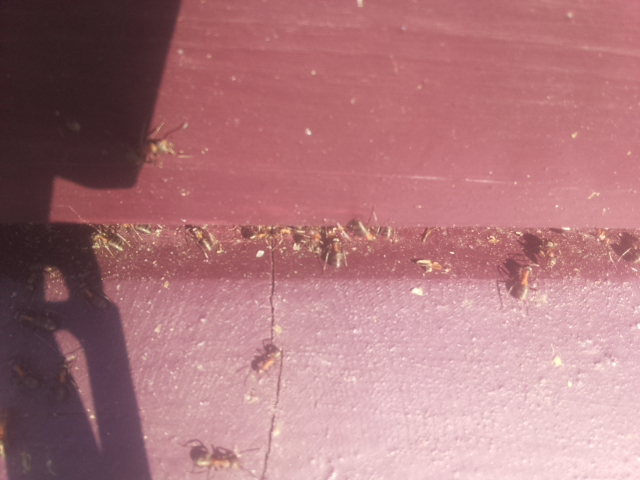ant: (183, 442, 246, 474), (251, 339, 286, 382), (50, 354, 79, 405), (6, 357, 44, 395), (186, 221, 218, 266), (343, 211, 383, 245), (17, 305, 58, 334), (511, 260, 536, 305), (323, 232, 348, 273), (141, 133, 174, 158)
